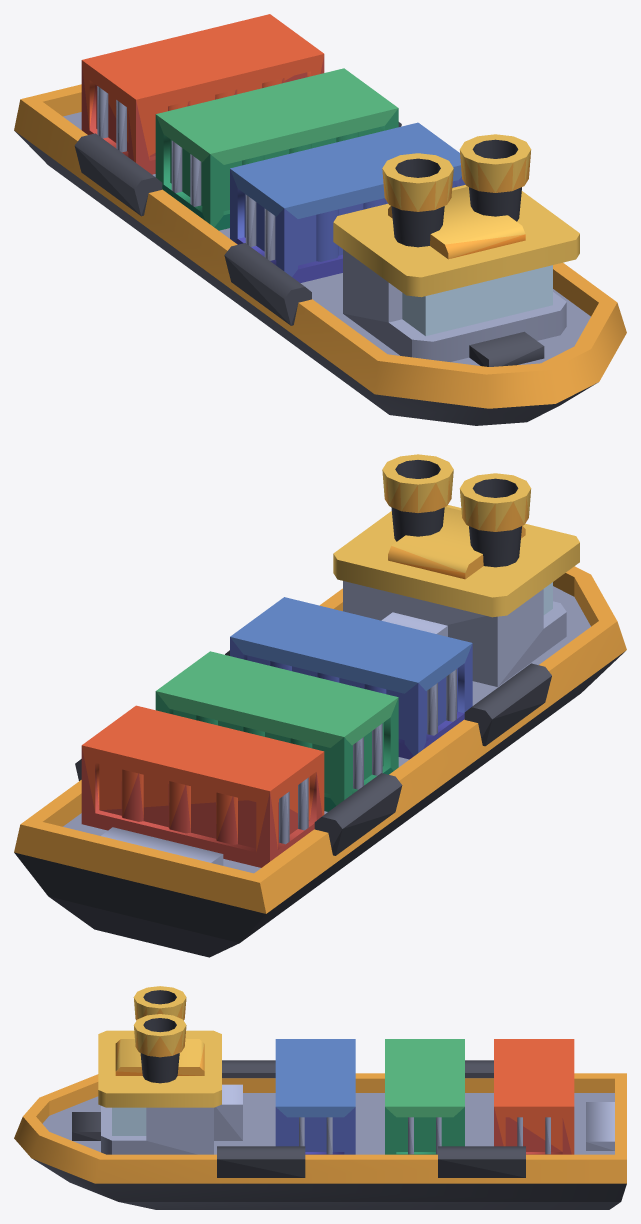
Rendered from navio.glb.
The picture shows the model from 3 angles, top to bottom: view 1: azimuth 30°, elevation 25°; view 2: azimuth 150°, elevation 25°; view 3: azimuth 270°, elevation 25°; orthographic projection. The views are drawn at different scales.
Visible parts, largest first — view 1: ship-cargo-a, cargo-c, cargo-b, cargo-a; view 2: ship-cargo-a, cargo-c, cargo-a, cargo-b; view 3: ship-cargo-a, cargo-c, cargo-a, cargo-b.
Boxes of the visible parts, x1,y1,x2,y2 form: ship-cargo-a: (14,84,626,425); cargo-c: (81,14,324,260); cargo-b: (155,68,398,230); cargo-a: (230,122,465,282); ship-cargo-a: (14,454,626,957); cargo-c: (81,669,456,867); cargo-a: (230,597,472,759); cargo-b: (155,651,398,811); ship-cargo-a: (14,986,626,1209); cargo-c: (299,1039,574,1154); cargo-a: (275,1039,355,1154); cargo-b: (385,1039,464,1154).
Size of the model in its own units: 3.92 by 3.38 by 10.55.
